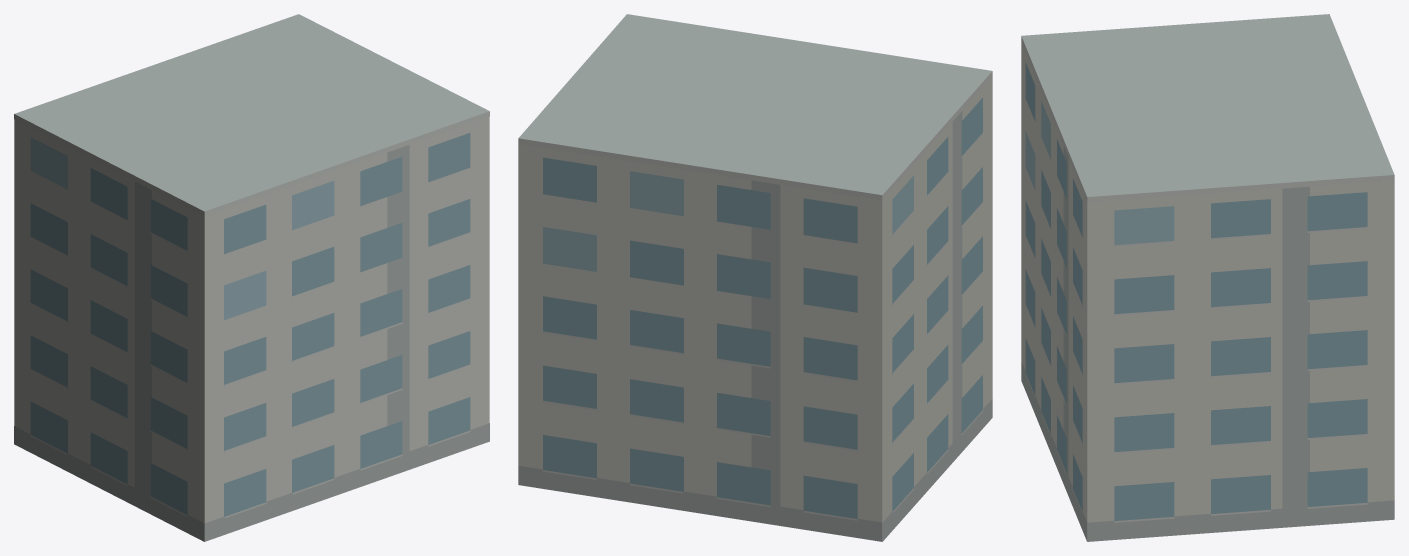
Rendered from survey-upis-32894580.glb.
3 renders of one model, left to right at view 1: azimuth 30°, elevation 25°; view 2: azimuth 150°, elevation 25°; view 3: azimuth 270°, elevation 25°, orthographic. The views are drawn at different scales.
Visible parts, largest first — view 1: survey-upis-32894580.tmp; view 2: survey-upis-32894580.tmp; view 3: survey-upis-32894580.tmp.
Boxes of the visible parts, bbox=[...] form: survey-upis-32894580.tmp: bbox=[14, 14, 489, 541]; survey-upis-32894580.tmp: bbox=[518, 14, 992, 541]; survey-upis-32894580.tmp: bbox=[1021, 14, 1394, 541].
Size of the model in its own units: 17.18 by 15.07 by 14.8.
